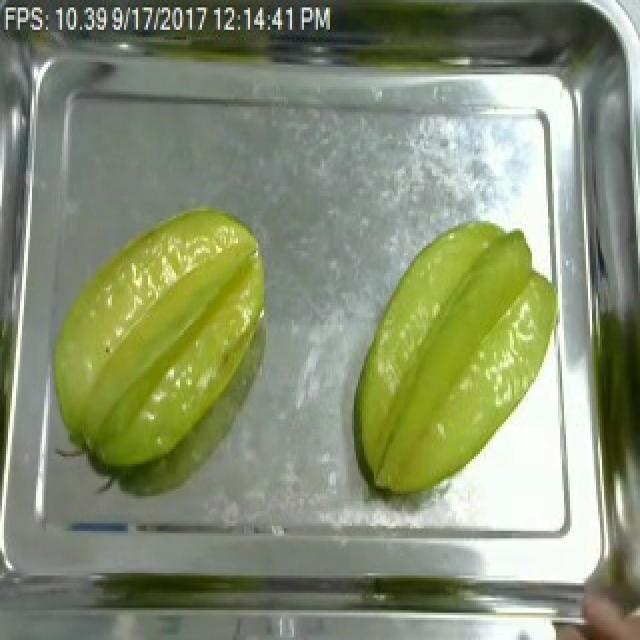fruit: (36, 196, 278, 486), (342, 208, 570, 508)
